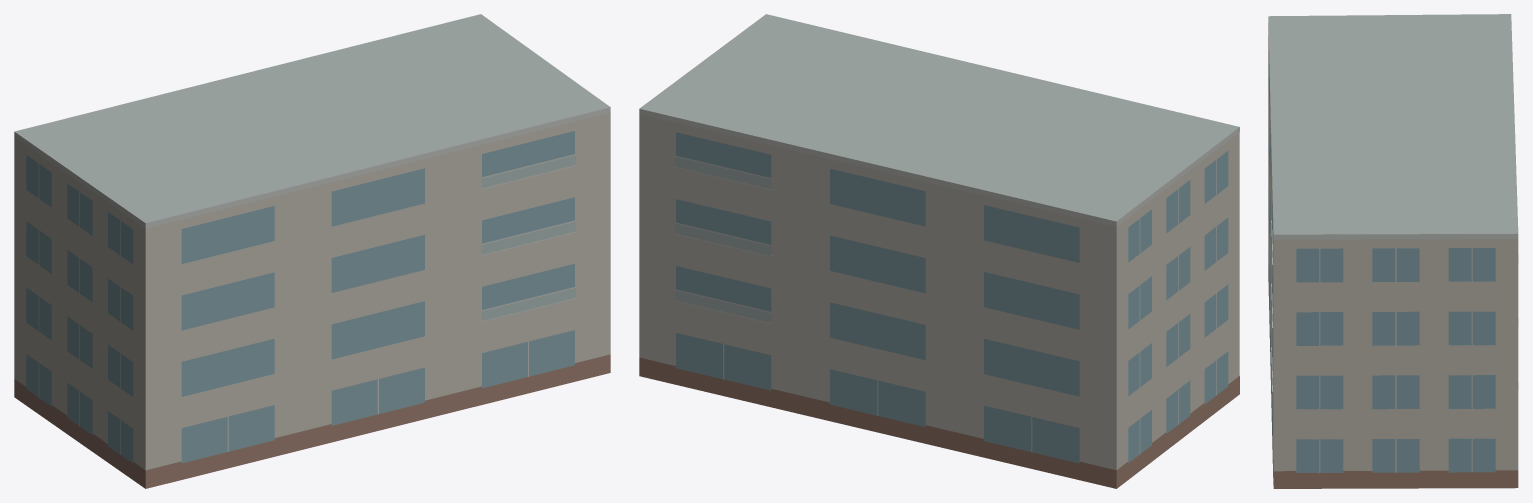
Rendered from survey-upis-32739593.glb.
3 views of the same model, side by side, from view 1: azimuth 30°, elevation 25°; view 2: azimuth 150°, elevation 25°; view 3: azimuth 270°, elevation 25° (orthographic). The views are drawn at different scales.
Visible parts, largest first — view 1: survey-upis-32739593.tmp; view 2: survey-upis-32739593.tmp; view 3: survey-upis-32739593.tmp.
Part boxes in pixels (x1,y1,x2,y2): survey-upis-32739593.tmp: [14, 14, 610, 488]; survey-upis-32739593.tmp: [639, 14, 1239, 488]; survey-upis-32739593.tmp: [1268, 14, 1518, 488].
Bounding box in the file's own units: 22.34 × 12 × 10.72.
